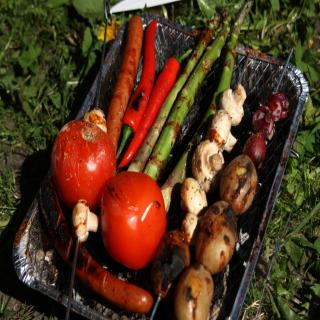tomato: (100, 170, 167, 272), (51, 120, 117, 212)
